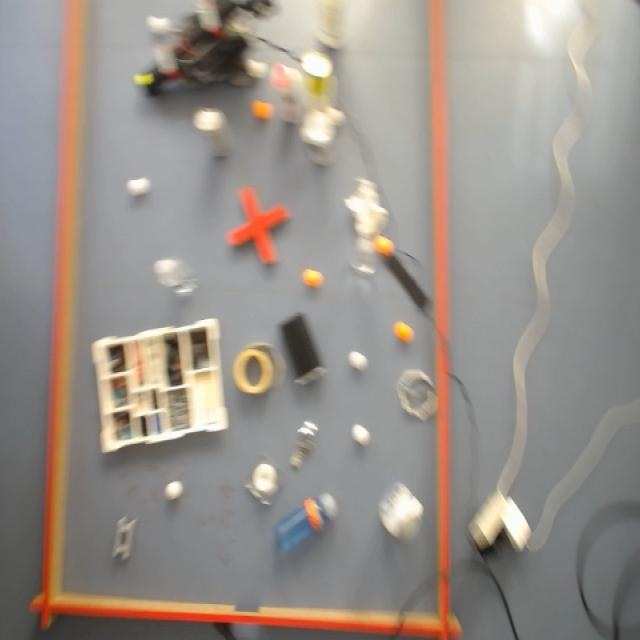orange: (301, 269, 324, 291), (250, 100, 275, 120), (392, 321, 413, 344), (373, 236, 394, 257)
white: (133, 0, 276, 94), (192, 109, 226, 134), (162, 478, 186, 505), (349, 422, 372, 449), (347, 350, 369, 375), (126, 179, 150, 195)
